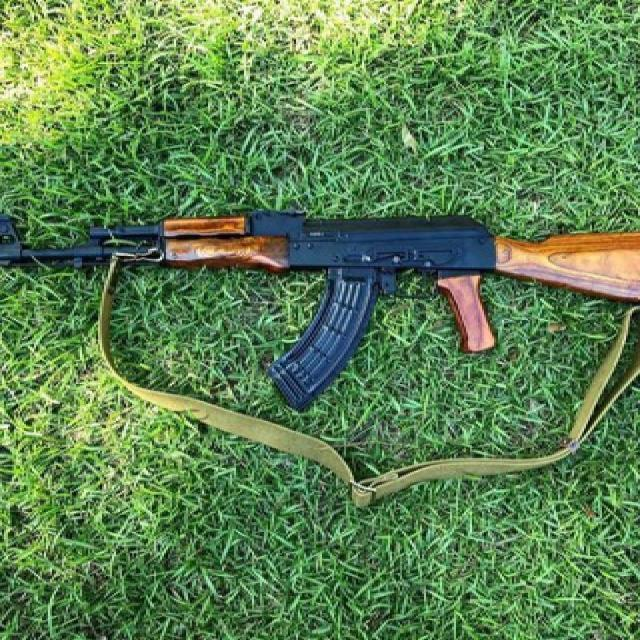weapon: (2, 190, 638, 407)
